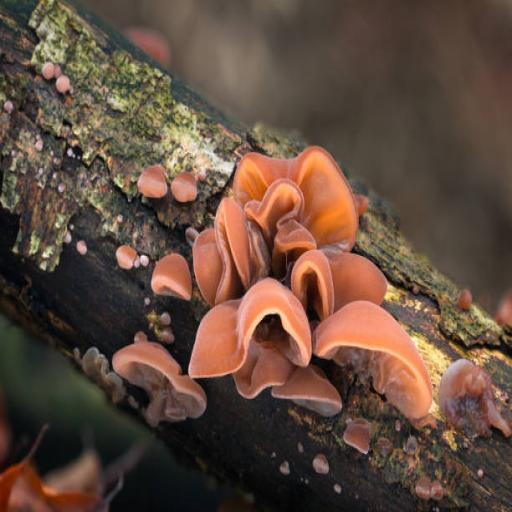Wood Ear Mushroom: (189, 144, 444, 444), (109, 333, 215, 441), (436, 355, 511, 443)
